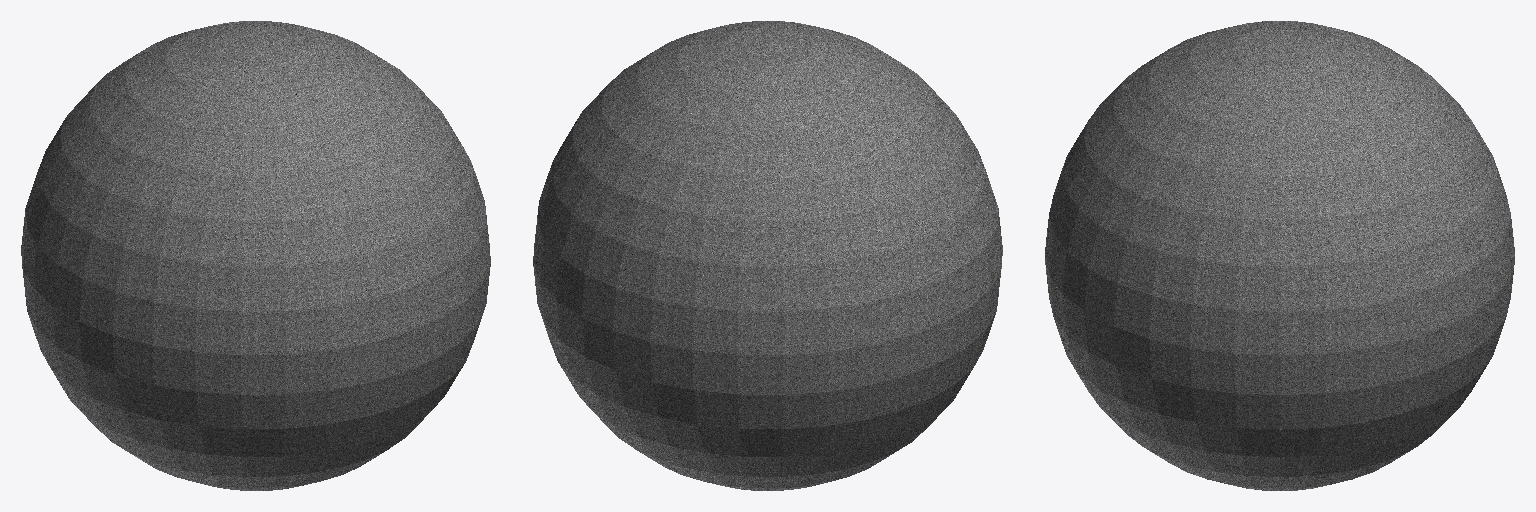
3 renders of one model, left to right at view 1: azimuth 30°, elevation 25°; view 2: azimuth 150°, elevation 25°; view 3: azimuth 270°, elevation 25°, orthographic.
Visible parts, largest first — view 1: Sphere; view 2: Sphere; view 3: Sphere.
Boxes of the visible parts, <box> form: Sphere: <box>21,21,490,490</box>; Sphere: <box>533,21,1002,490</box>; Sphere: <box>1045,21,1514,490</box>.
Size of the model in its own units: 10 by 10 by 10.
1 materials, 1 textured.